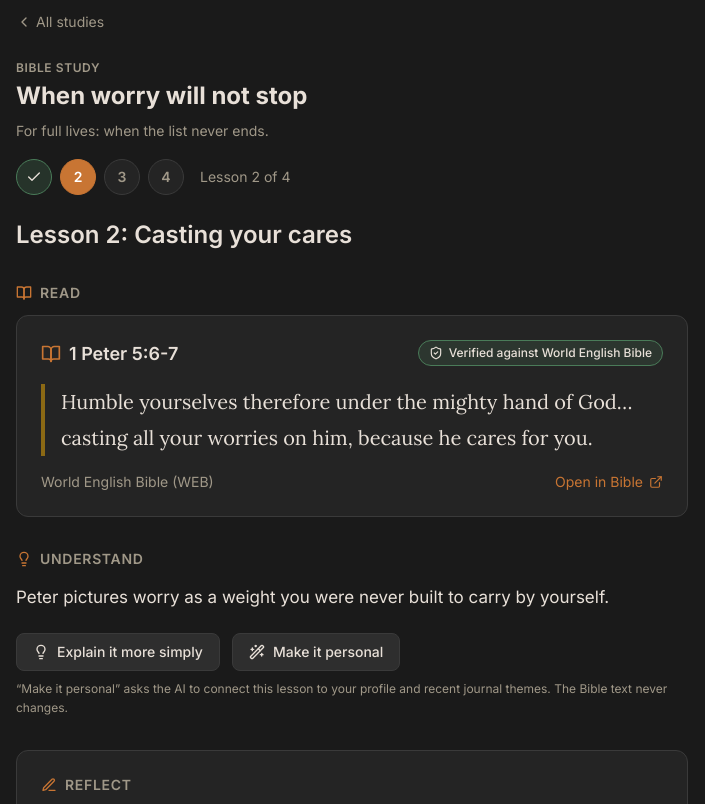
Test: StudyPage › shows why personalising failed, with the suggestion, and leaves the standard lesson usable
Click the button "Make it personal": [316, 652] box [232, 633, 400, 671]
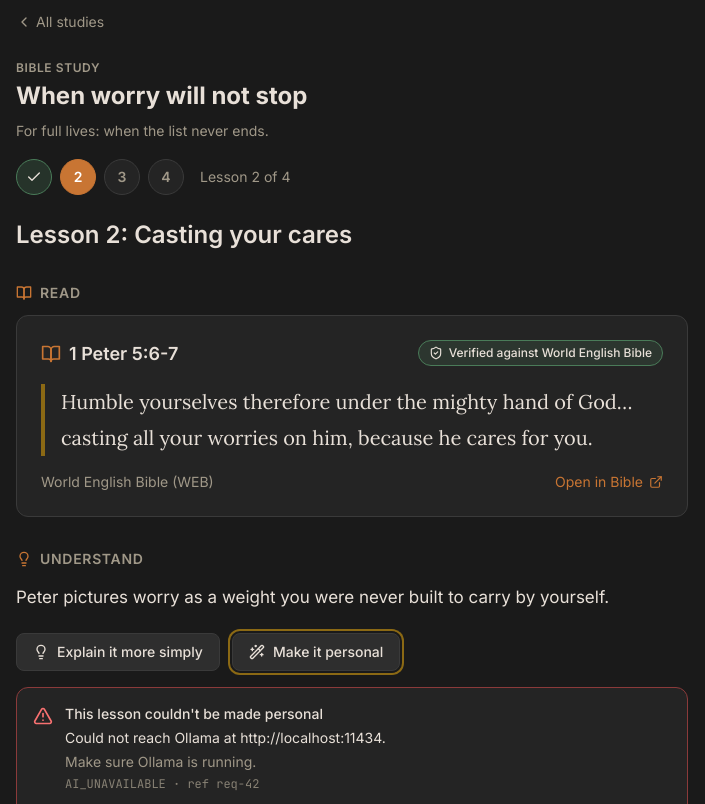
Result: the text "This lesson couldn't be made personal" is shown at [65, 705, 323, 722]
Result: the text "Could not reach Ollama at http://localhost:11434." is shown at [65, 729, 386, 746]
Result: the text "Make sure Ollama is running." is shown at [65, 753, 256, 770]
